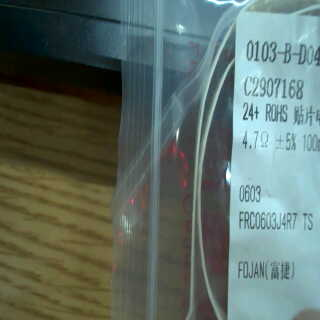4.7R: (240, 126, 273, 153)
